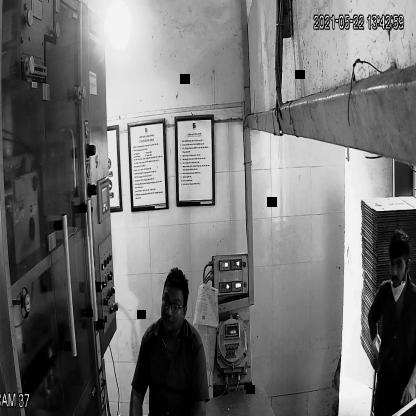goggles: (160, 294, 187, 315)
no_goggles: (386, 255, 406, 273)
